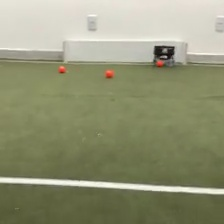ball: (105, 68, 114, 78), (57, 64, 66, 73), (156, 59, 164, 66)
goal: (61, 38, 189, 66)
robot: (151, 43, 176, 68)
